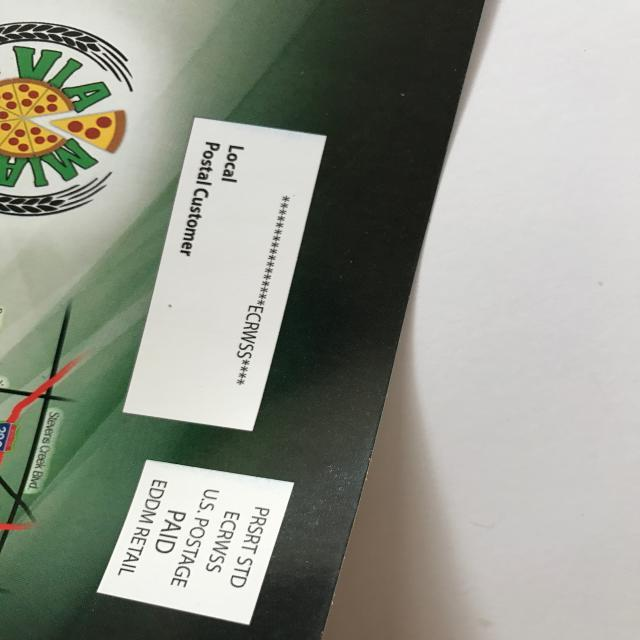paper: (2, 0, 486, 640)
